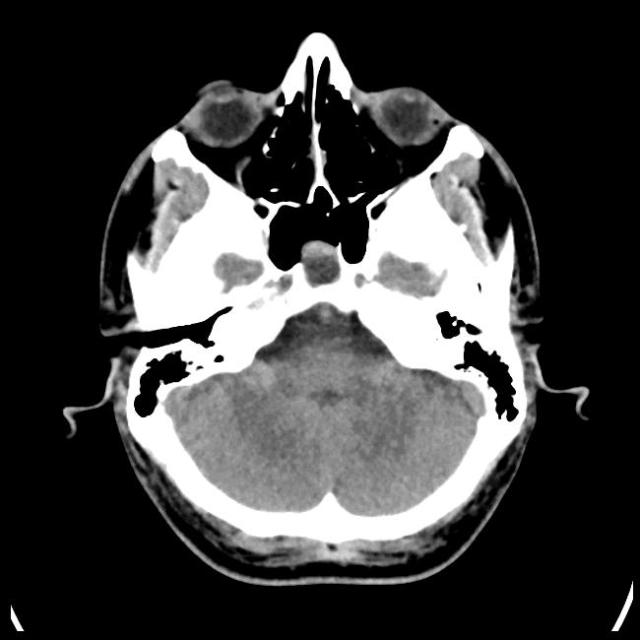lesion: (67, 30, 580, 589)
